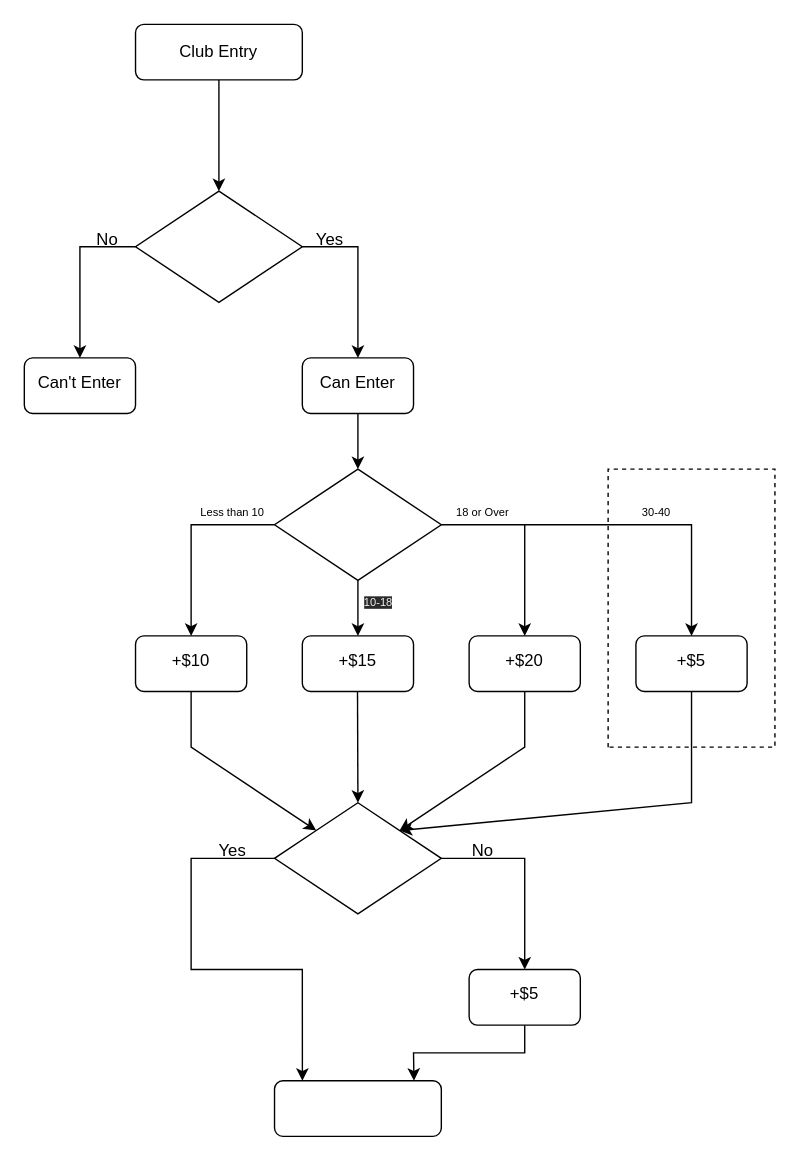
This 801x1161 diagram has some shape labels left out. Each missing label, with the centre of its shape:
"Age Group?" belongs at [357,524].
"Card Member?" belongs at [357,857].
"Name ID?" belongs at [218,246].
"Total Entry Fee is $_" belongs at [357,1107].
